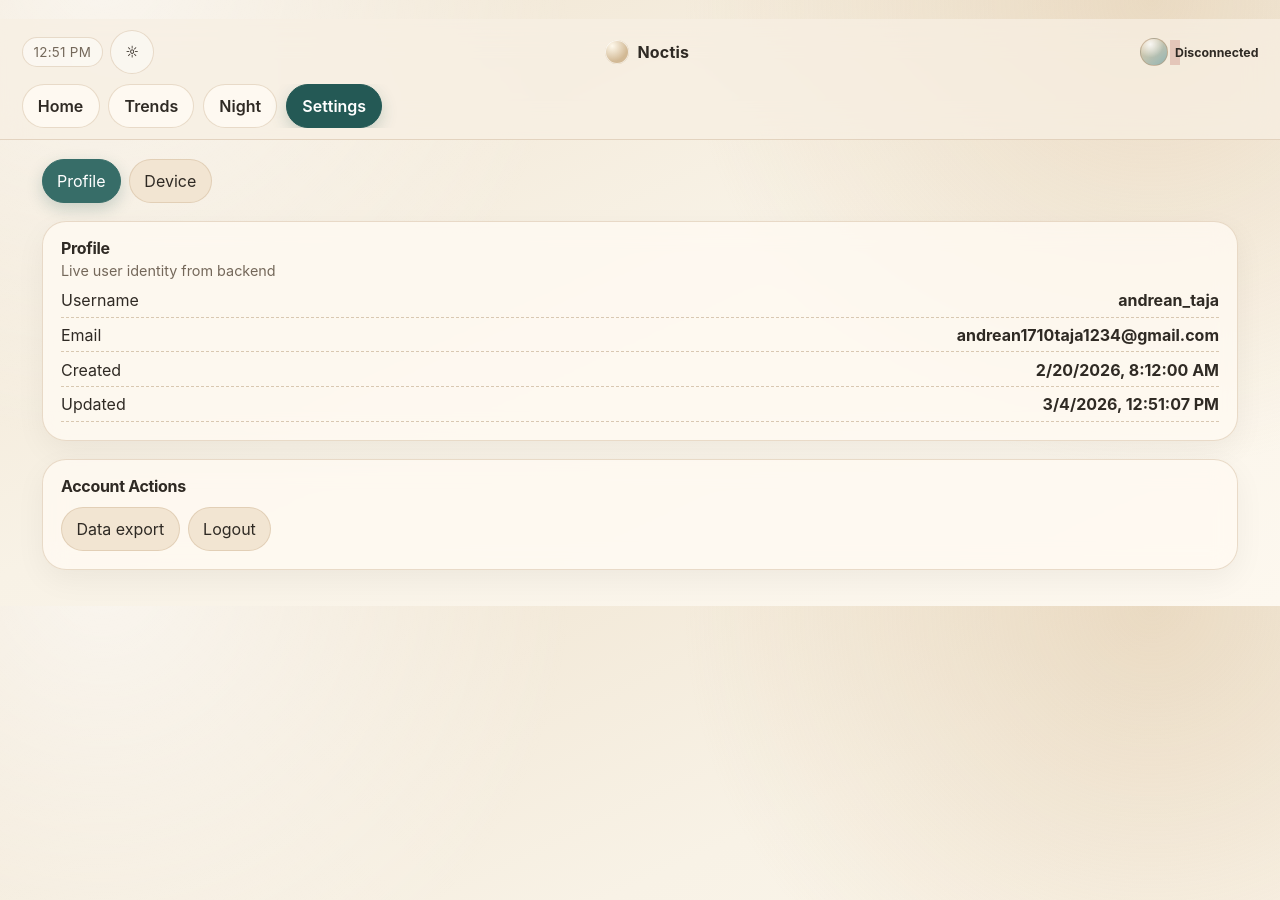
Test: settings page › shows action error message when export fails
The width and height of the screenshot is (1280, 900).
Expected: the tab "Profile" is shown, 42,159 -> 121,203
Expected: the heading "Account Actions" is shown, 61,476 -> 186,496
Click the button "Data export" at coordinates (120, 529), box 61,507 -> 180,551
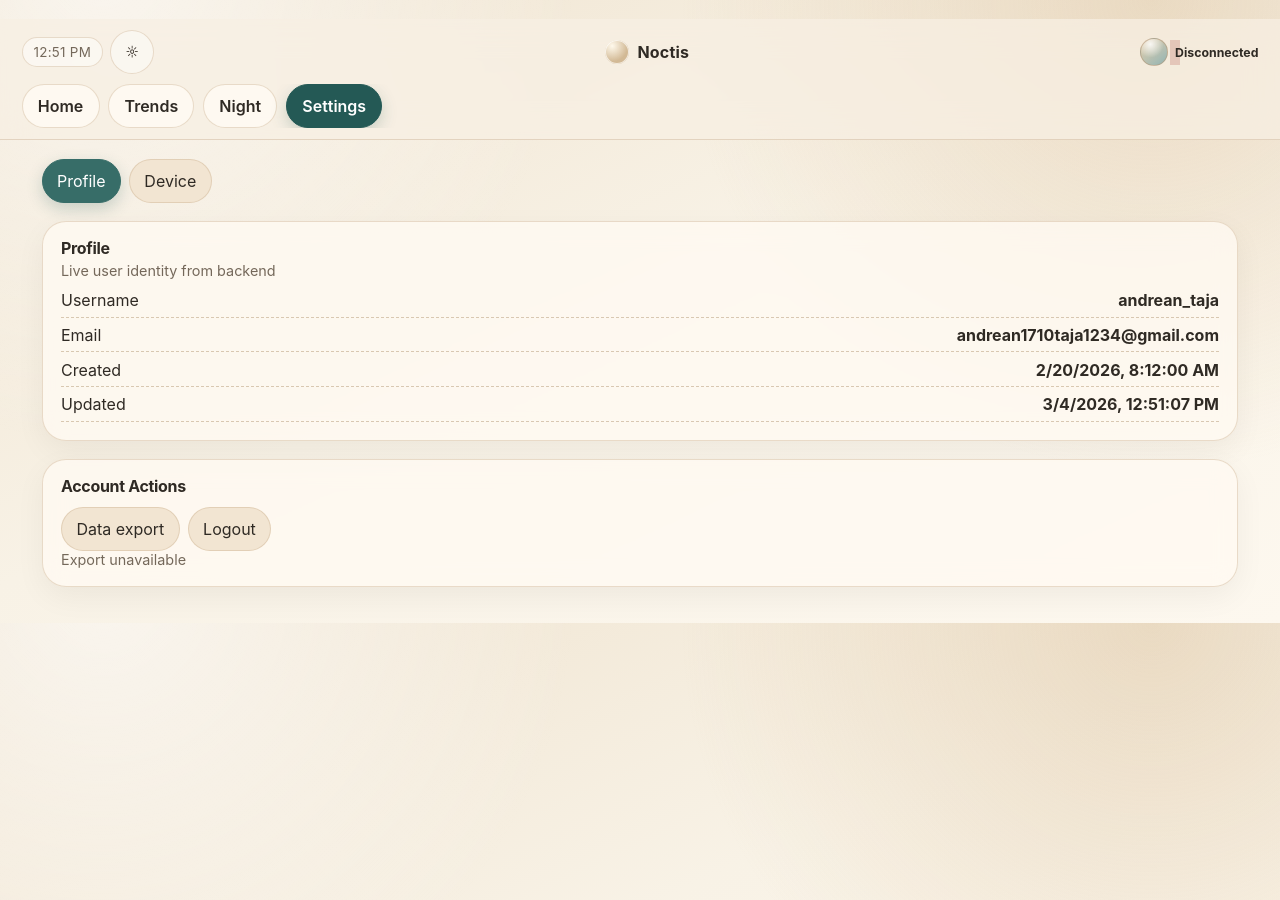
Result: the message reads "Export unavailable" at 61,551 -> 186,568
